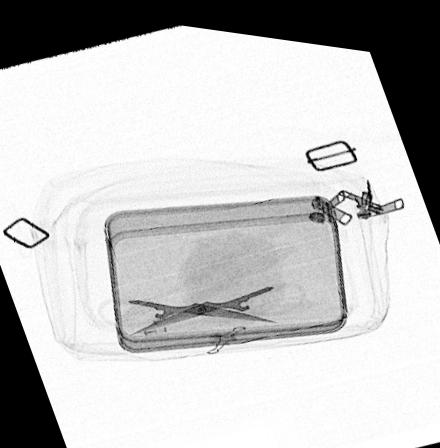Scissors: (96, 271, 308, 332)
